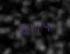four: (42, 19, 49, 32)
one: (26, 20, 33, 34), (34, 20, 41, 33)
six: (18, 21, 25, 34)
